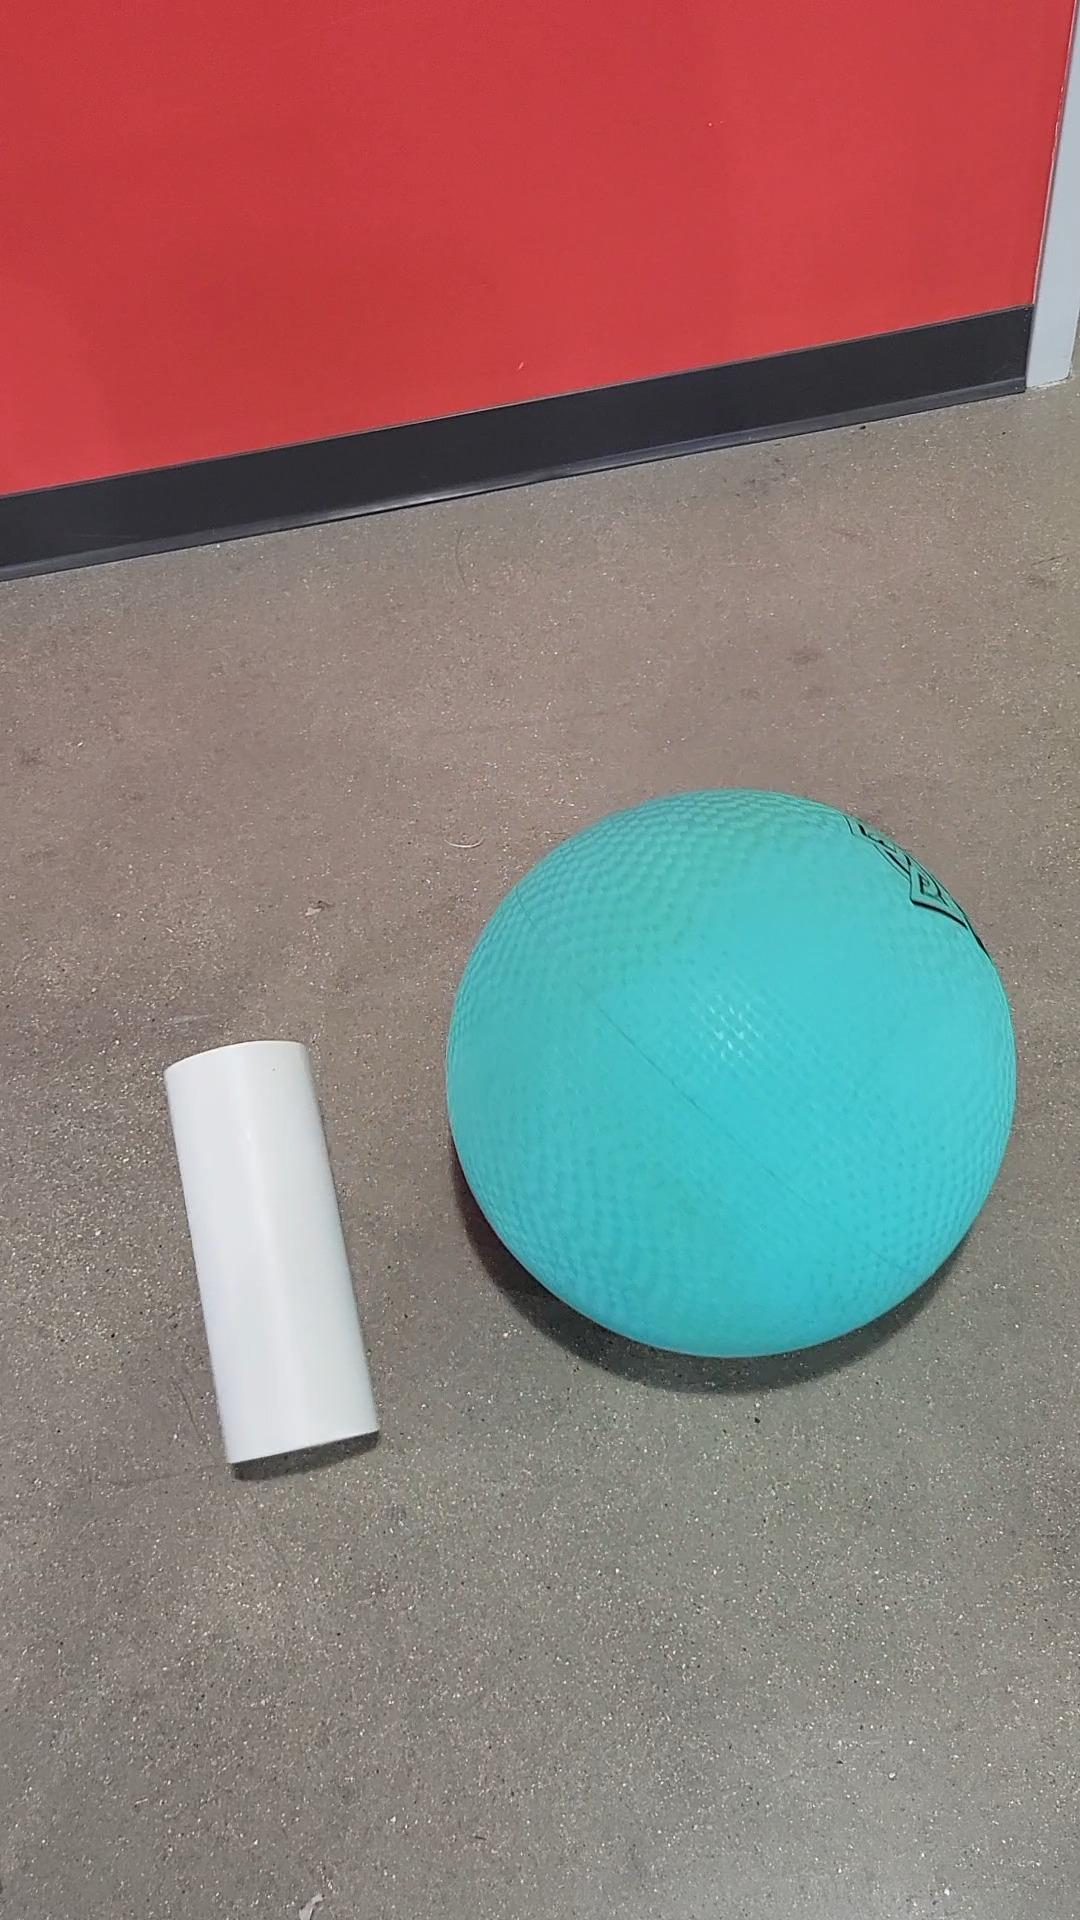algae: (438, 782, 1023, 1361)
coral: (162, 1035, 389, 1465)
